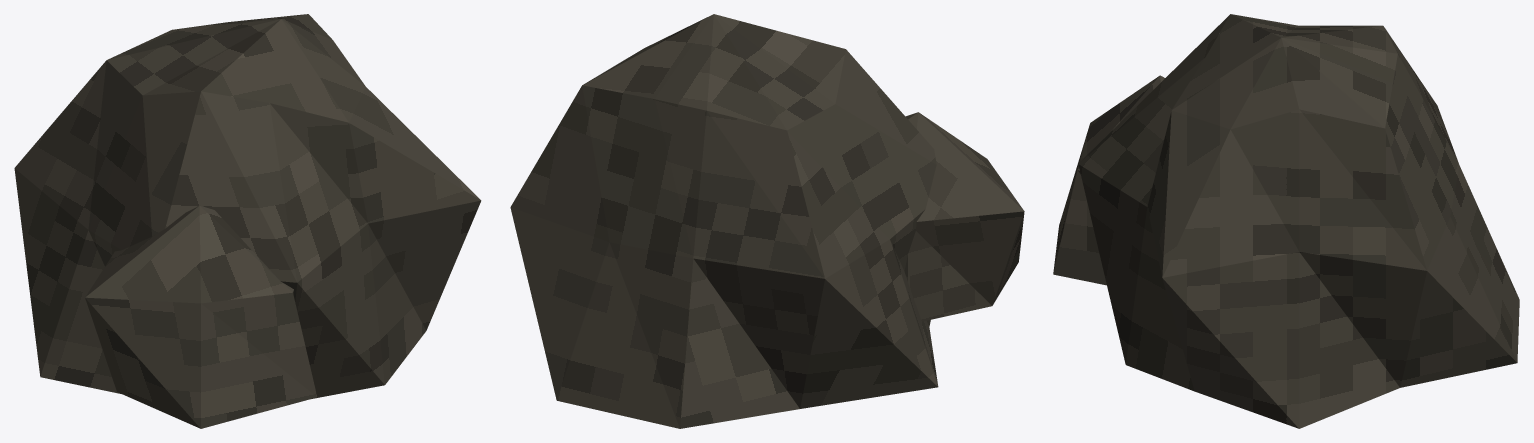
Rendered from grande.glb.
3 renders of one model, left to right at view 1: azimuth 30°, elevation 25°; view 2: azimuth 150°, elevation 25°; view 3: azimuth 270°, elevation 25°, orthographic.
Parts seen in each view (by area): view 1: roca; view 2: roca; view 3: roca.
Boxes of the visible parts, x1=… form: roca: x1=14, y1=14, x2=481, y2=428; roca: x1=510, y1=14, x2=1024, y2=428; roca: x1=1053, y1=14, x2=1519, y2=428.
Bounding box in the file's own units: 4 × 3 × 4.
Materials: 1 (1 with a texture image).
